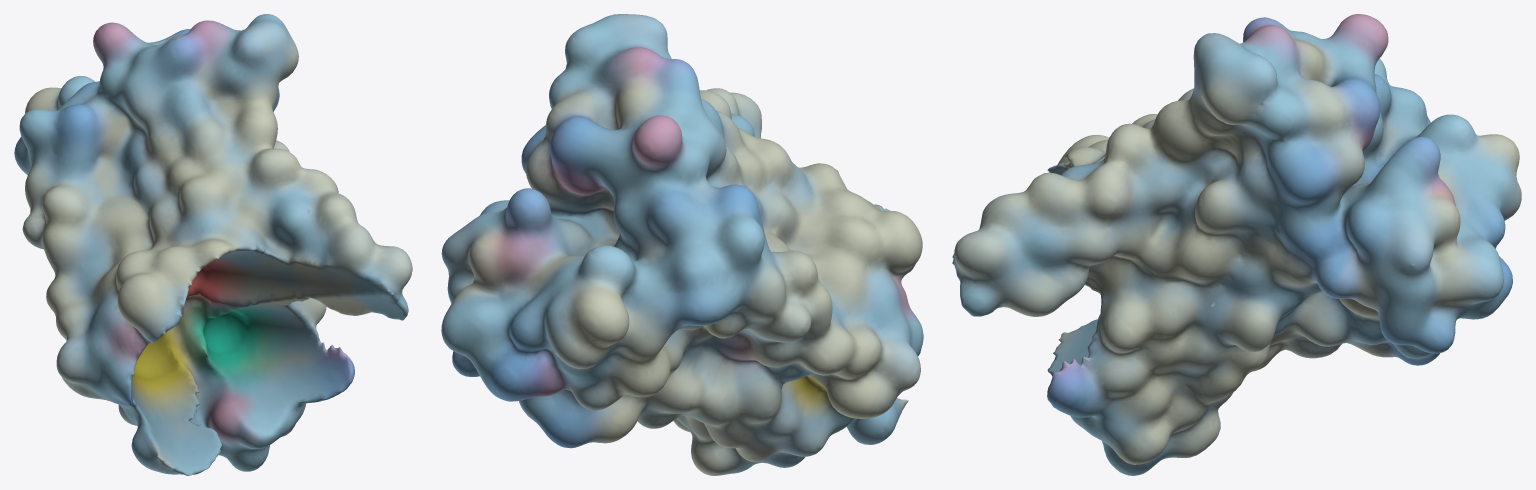
Rendered from beta2.glb.
3 renders of one model, left to right at view 1: azimuth 30°, elevation 25°; view 2: azimuth 150°, elevation 25°; view 3: azimuth 270°, elevation 25°, orthographic. The views are drawn at different scales.
Visible parts, largest first — view 1: geometry_0; view 2: geometry_0; view 3: geometry_0.
Part boxes in pixels (x1,y1,x2,y2): geometry_0: [14, 14, 412, 475]; geometry_0: [441, 14, 923, 475]; geometry_0: [952, 14, 1521, 475].
Bounding box in the file's own units: 0.4279 × 0.5469 × 0.6093.
